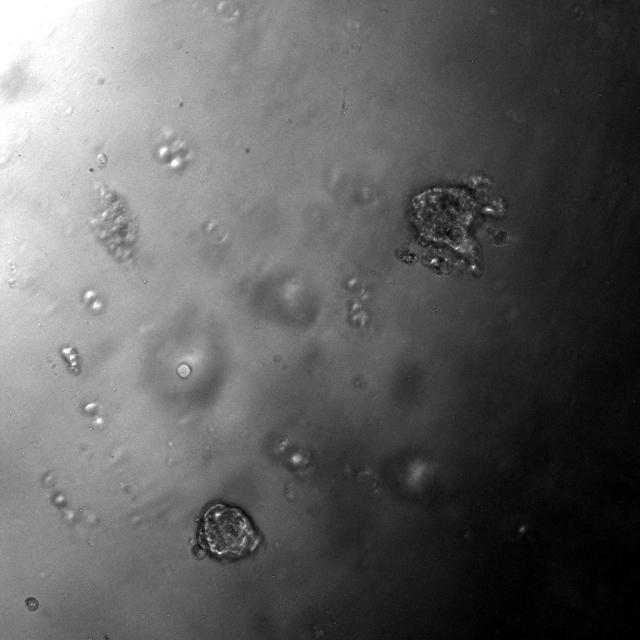organoid: (396, 175, 506, 277), (191, 502, 262, 562), (89, 183, 139, 262), (60, 344, 81, 374), (176, 362, 191, 378), (25, 597, 38, 611)
